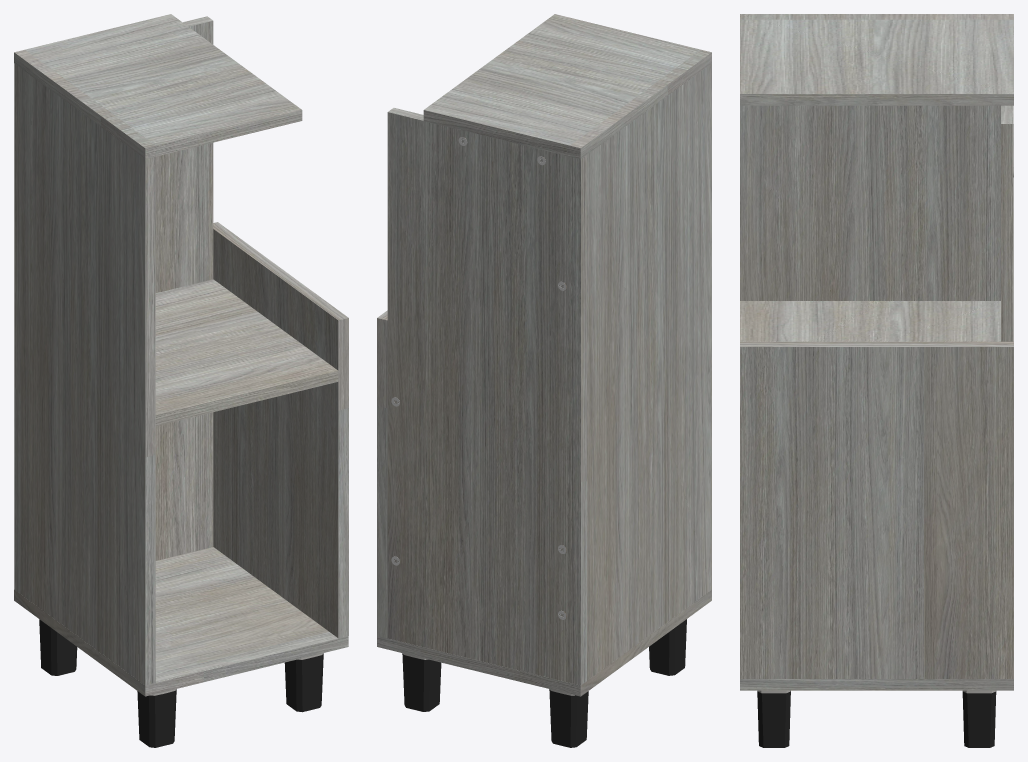
3 views of the same model, side by side, from view 1: azimuth 30°, elevation 25°; view 2: azimuth 150°, elevation 25°; view 3: azimuth 270°, elevation 25° (orthographic). The views are drawn at different scales.
Parts seen in each view (by area): view 1: Cube.007, Cube.002, Cube.001, Cube.003; view 2: Cube.007, Cube.003, Cube.004, Cube.002; view 3: Cube.007, Cube.001, Cube.004.
Boxes of the visible parts, <box> form: Cube.007: <box>14,14,348,696</box>; Cube.002: <box>137,689,176,747</box>; Cube.001: <box>284,653,323,712</box>; Cube.003: <box>39,619,77,675</box>; Cube.007: <box>377,14,711,696</box>; Cube.003: <box>549,689,588,747</box>; Cube.004: <box>402,653,441,711</box>; Cube.002: <box>649,619,686,675</box>; Cube.007: <box>740,14,1013,690</box>; Cube.001: <box>757,691,790,747</box>; Cube.004: <box>962,691,996,747</box>.
Bounding box in the file's own units: 0.35 × 1 × 0.39.
9 materials, 4 textured.
